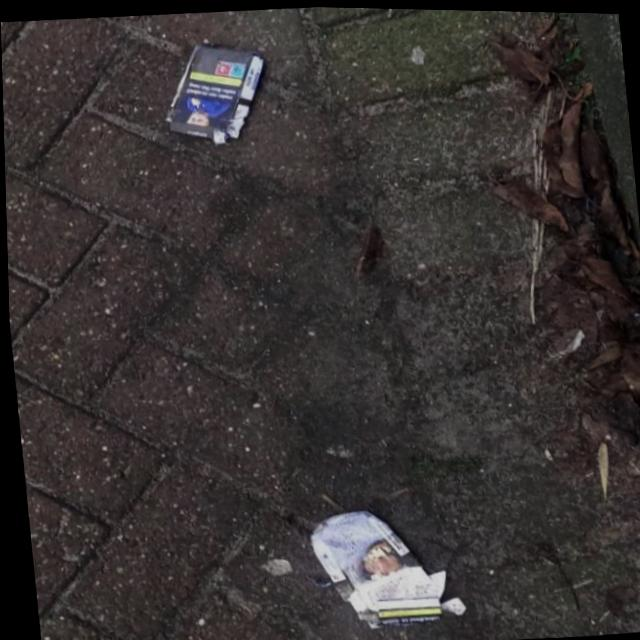Paper: (295, 497, 467, 635), (154, 32, 274, 152)
